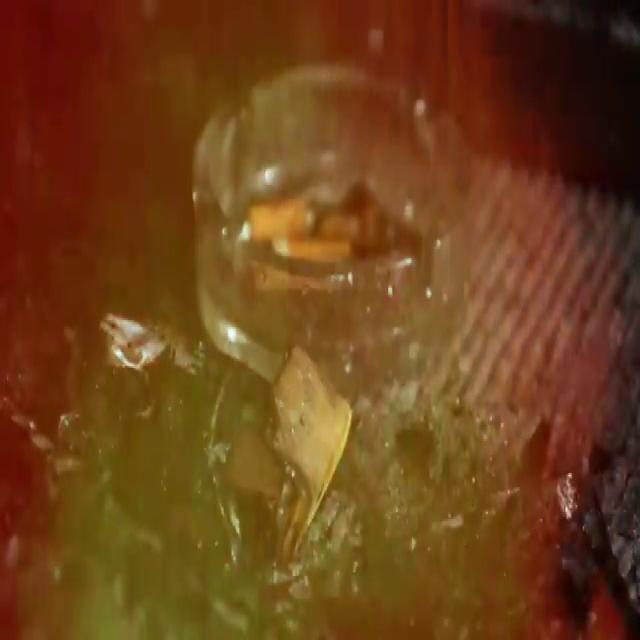fire: (233, 208, 260, 254)
